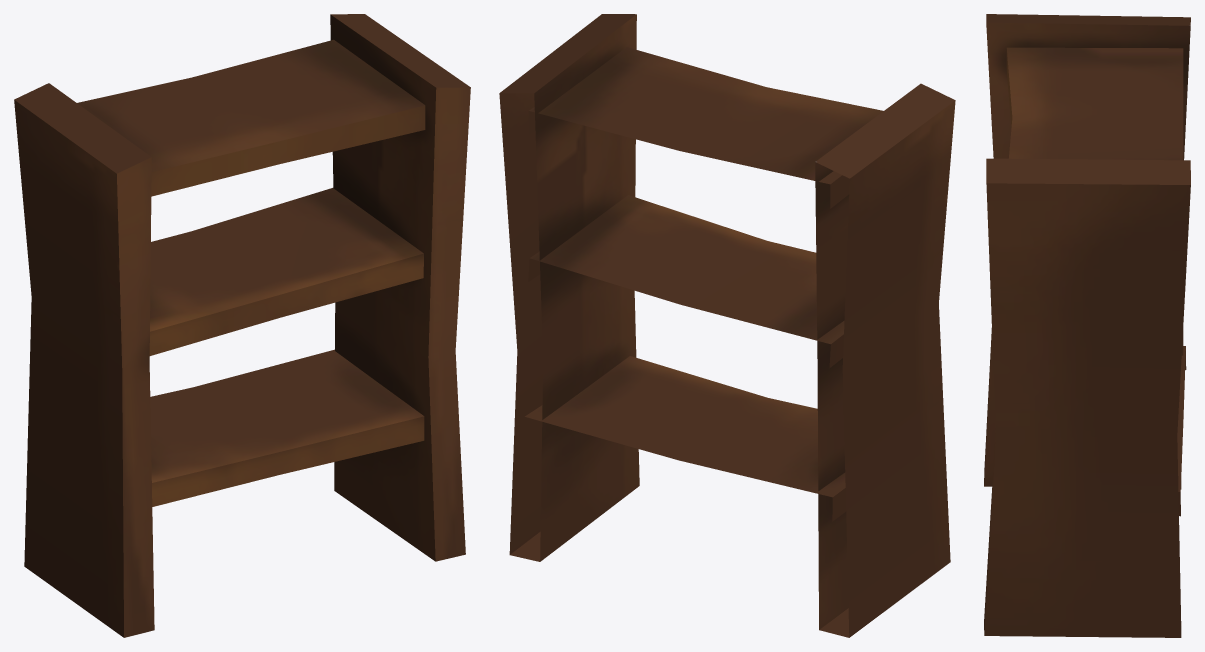
Rendered from Primera_Slums_Props _Shelf02.fbx.
3 views of the same model, side by side, from view 1: azimuth 30°, elevation 25°; view 2: azimuth 150°, elevation 25°; view 3: azimuth 270°, elevation 25° (orthographic). The views are drawn at different scales.
Parts seen in each view (by area): view 1: Primera_Slums_Props _Shelf02; view 2: Primera_Slums_Props _Shelf02; view 3: Primera_Slums_Props _Shelf02.
Boxes of the visible parts, box(x1,y1,x2,y2) form: Primera_Slums_Props _Shelf02: box(14, 14, 470, 637); Primera_Slums_Props _Shelf02: box(499, 14, 955, 637); Primera_Slums_Props _Shelf02: box(984, 14, 1190, 637).
Size of the model in its own units: 463 by 594 by 239.
Materials: 1 (1 with a texture image).
